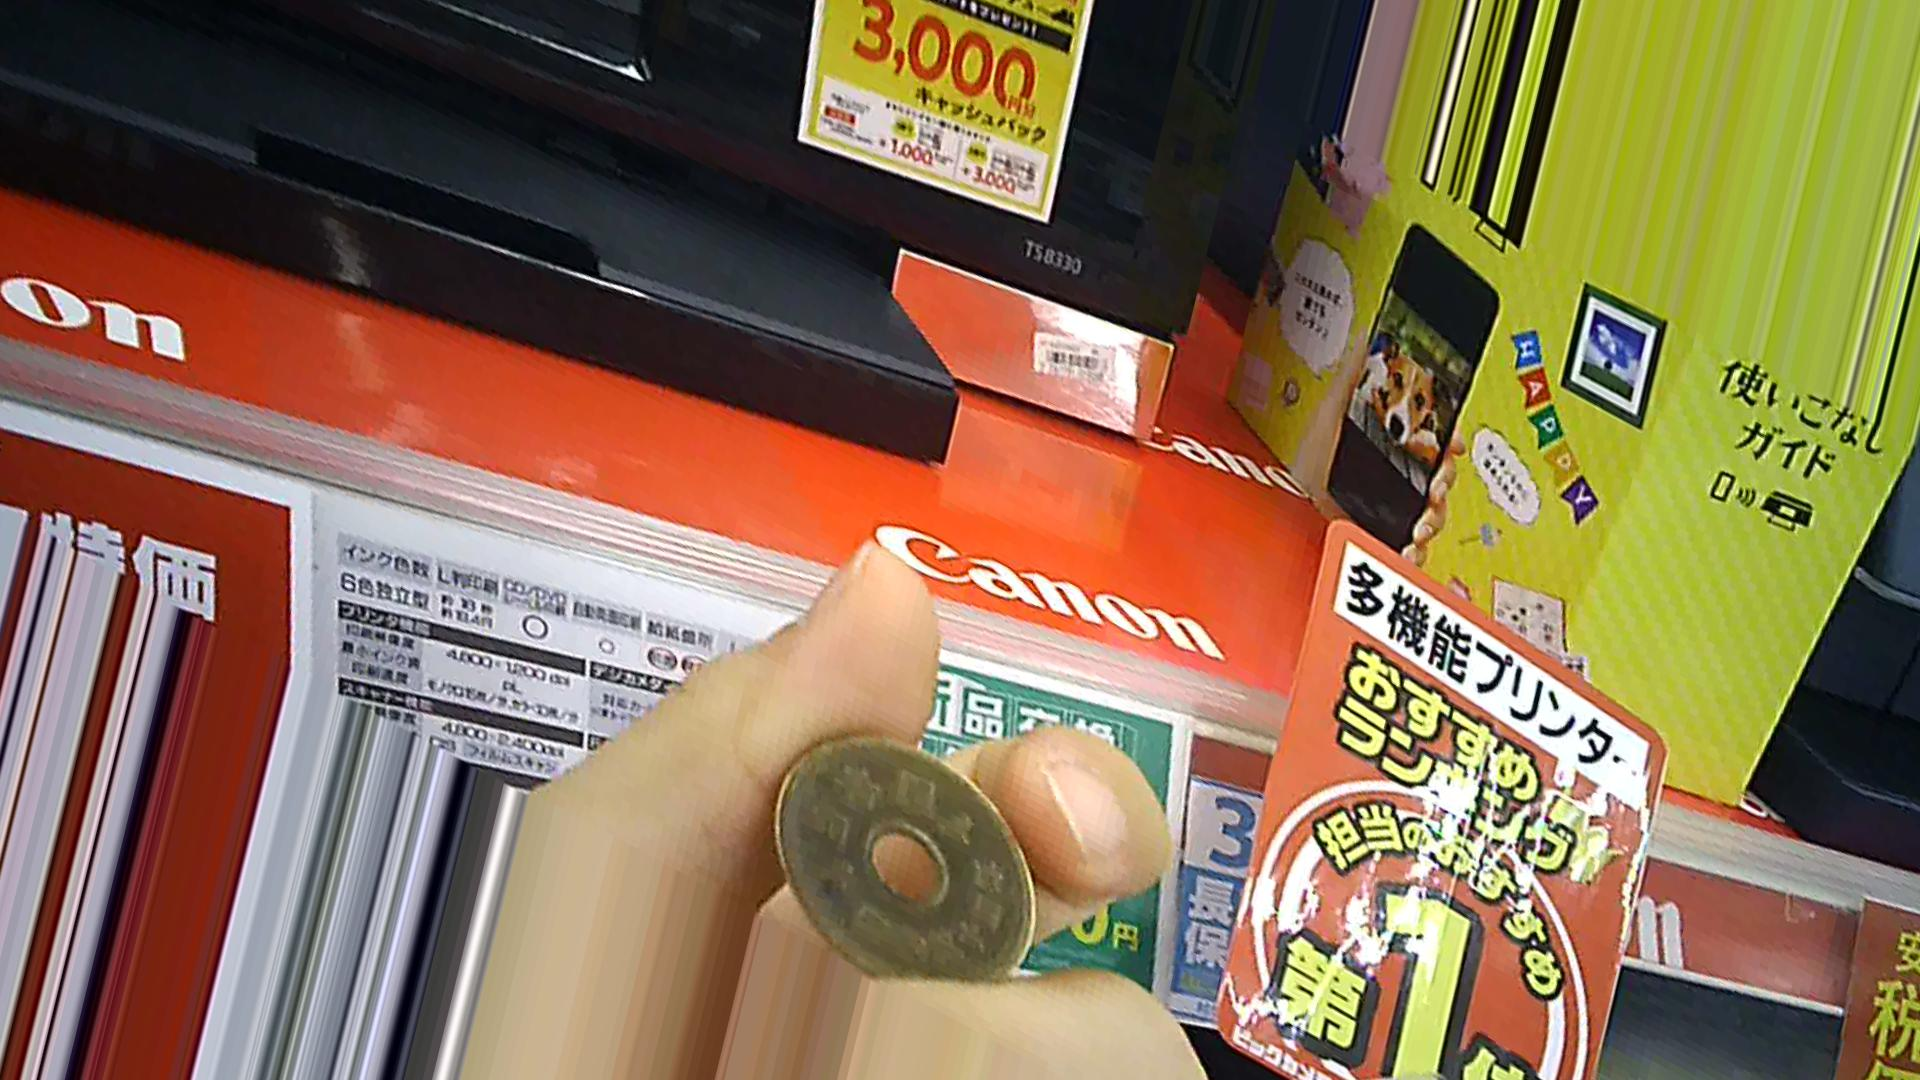5 Yen: (754, 732, 1059, 984)
